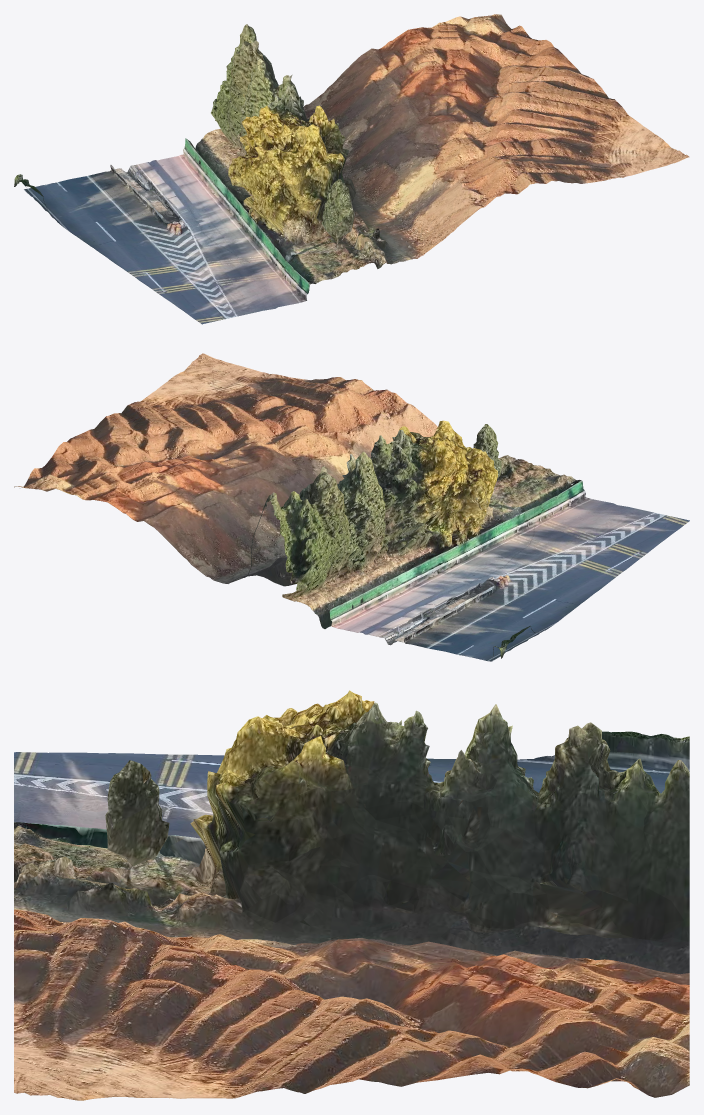
Rendered from BlockBBBB_L19_68.glb.
The picture shows the model from 3 angles, top to bottom: view 1: azimuth 30°, elevation 25°; view 2: azimuth 150°, elevation 25°; view 3: azimuth 270°, elevation 25°; orthographic projection. The views are drawn at different scales.
Visible parts, largest first — view 1: rtc; view 2: rtc; view 3: rtc.
Part boxes in pixels (x1,y1,x2,y2): rtc: (14, 14, 689, 324); rtc: (14, 353, 689, 661); rtc: (14, 690, 689, 1100).
Size of the model in its own units: 63.09 by 16.64 by 42.25.
4 materials, 4 textured.
